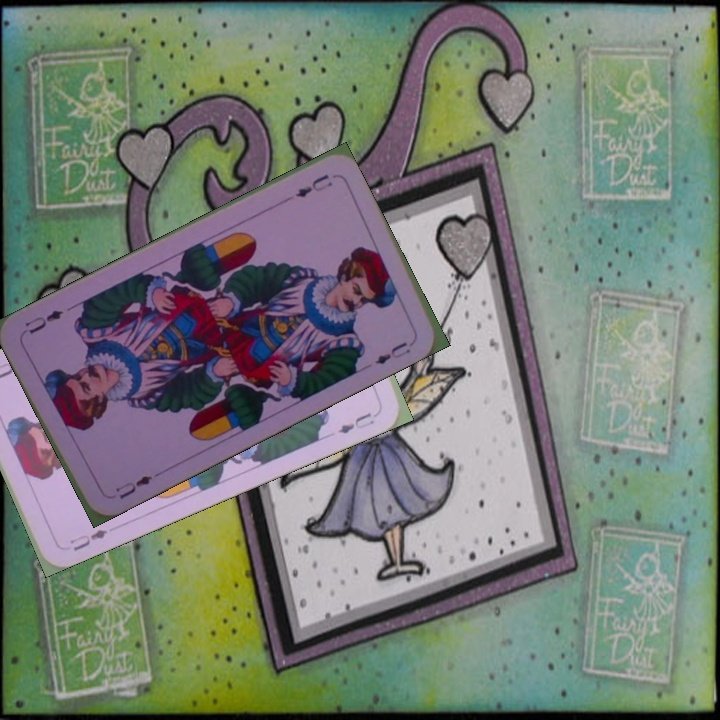EU: (111, 471, 155, 502), (290, 170, 335, 200), (65, 525, 110, 554)
